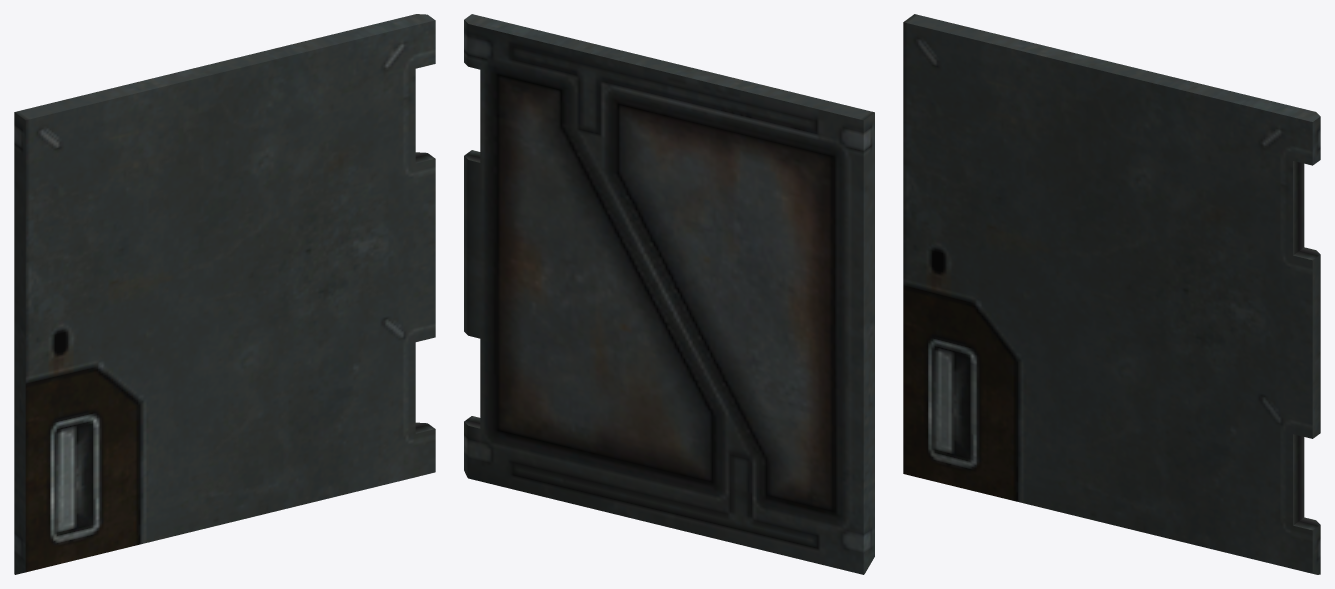
The model's file is desk_work_cabin_right_door.dae.
3 views of the same model, side by side, from view 1: azimuth 30°, elevation 25°; view 2: azimuth 150°, elevation 25°; view 3: azimuth 330°, elevation 25° (orthographic).
Parts seen in each view (by area): view 1: right_door; view 2: right_door; view 3: right_door.
Boxes of the visible parts, bbox=[...] form: right_door: bbox=[14, 14, 435, 574]; right_door: bbox=[464, 14, 874, 574]; right_door: bbox=[903, 14, 1320, 574].
Bounding box in the file's own units: 1.31 × 1.42 × 0.0626.
1 material, 1 textured.
